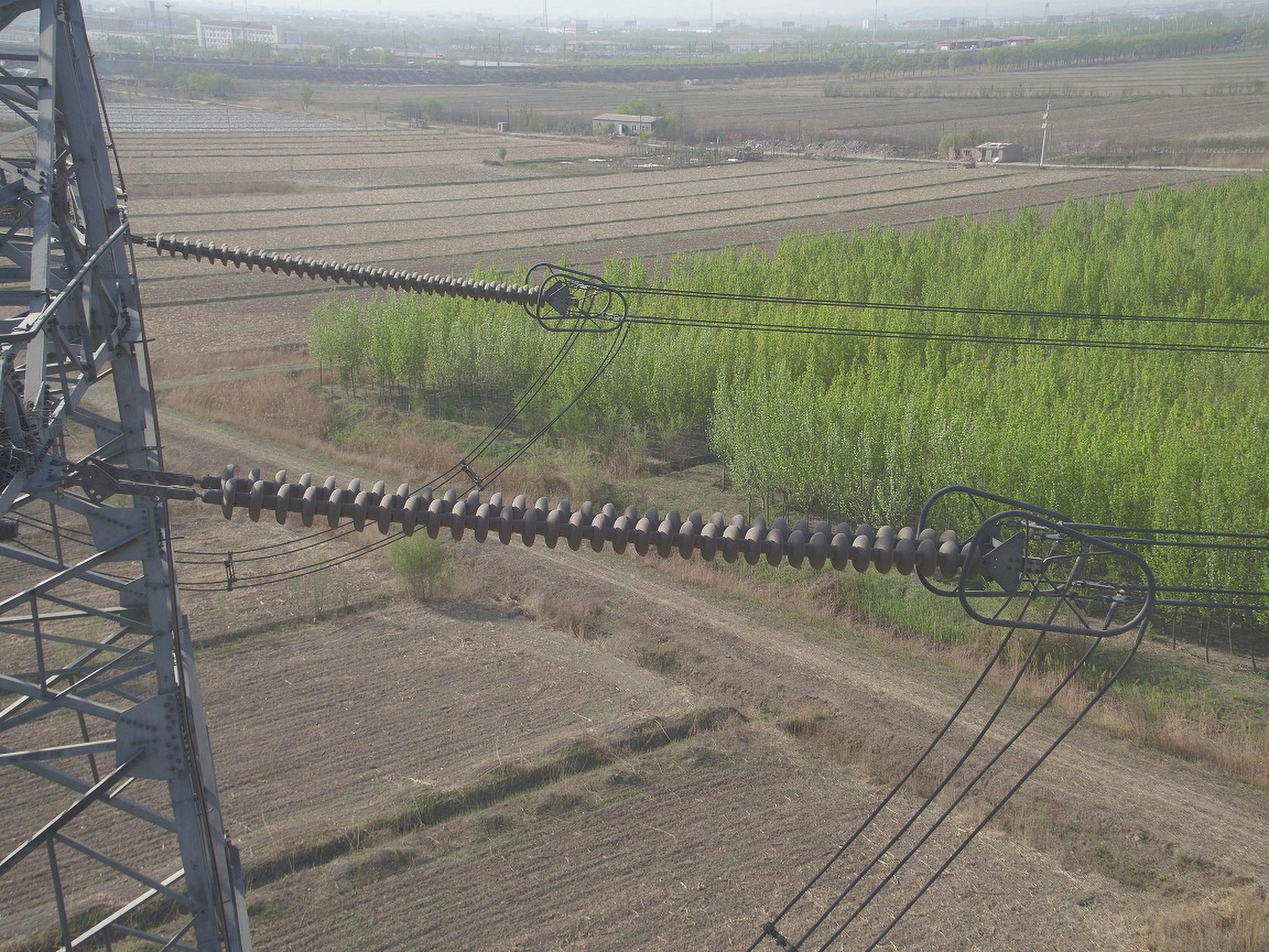insulator: (212, 459, 967, 587), (149, 228, 551, 311)
